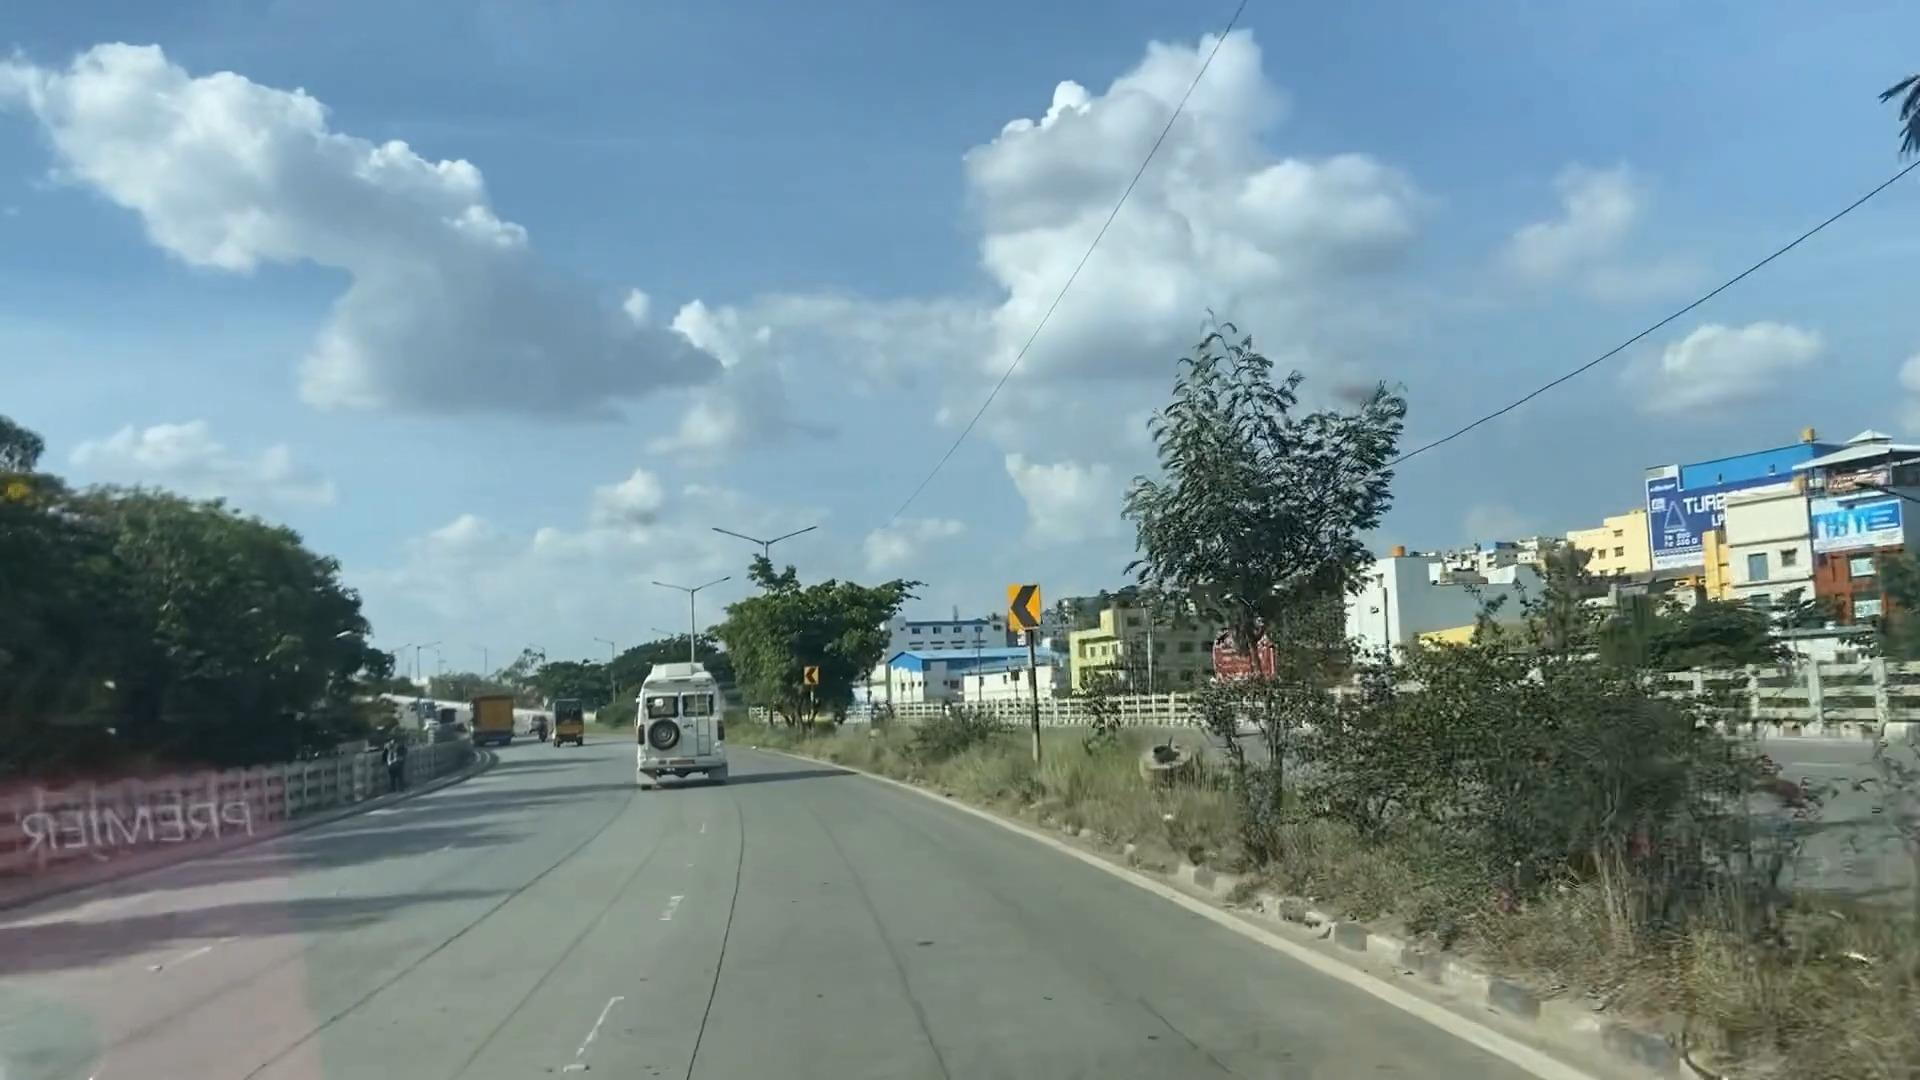HMV: (618, 646, 725, 779)
